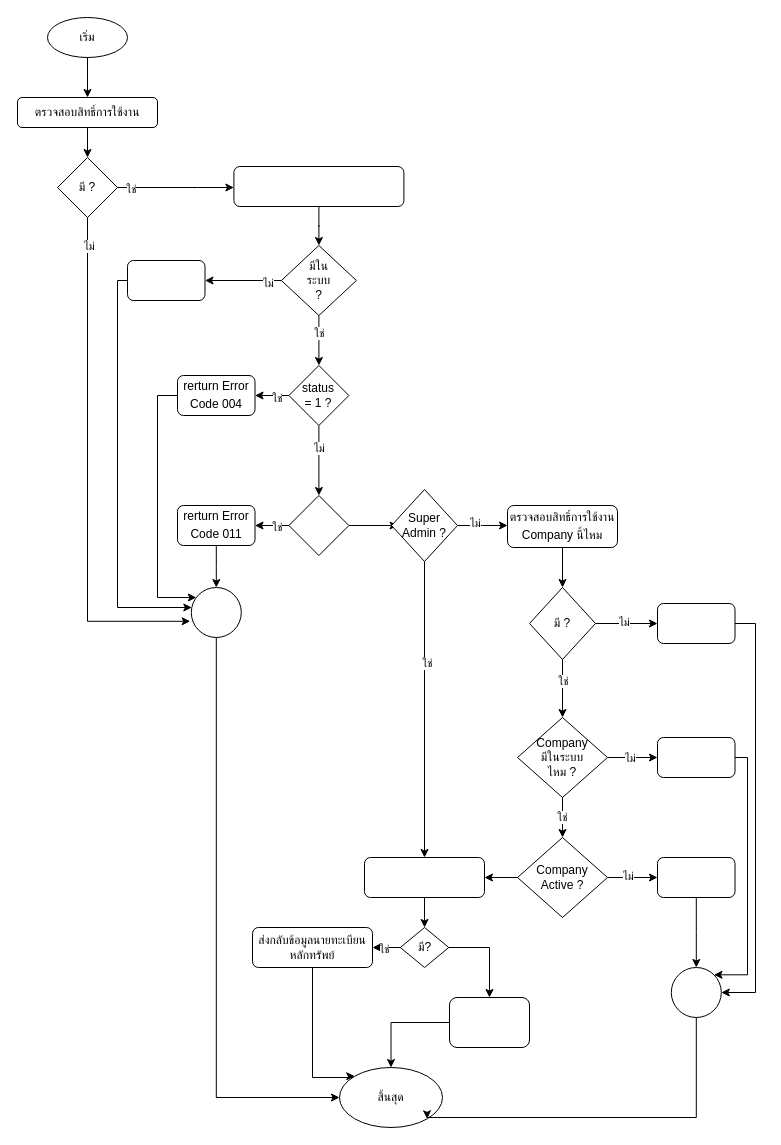
Some shapes in this 781 by 1145 pixel diagram are drawn without their labels. Each missing label, with the centre of its shape:
Locked = 1 ?: pixel 318 525
rerturn Error Code 001: pixel 165 280
rerturn Error Code 002: pixel 695 623
rerturn Error Code 007: pixel 695 757
rerturn Error Code 051: pixel 695 877
return Error code 052: pixel 489 1022
ดึงข้อมูลนายทะเบียนหลักทรัพย์: pixel 424 877
ตรวจสอบ Account สถานะการใช้งาน: pixel 318 186
